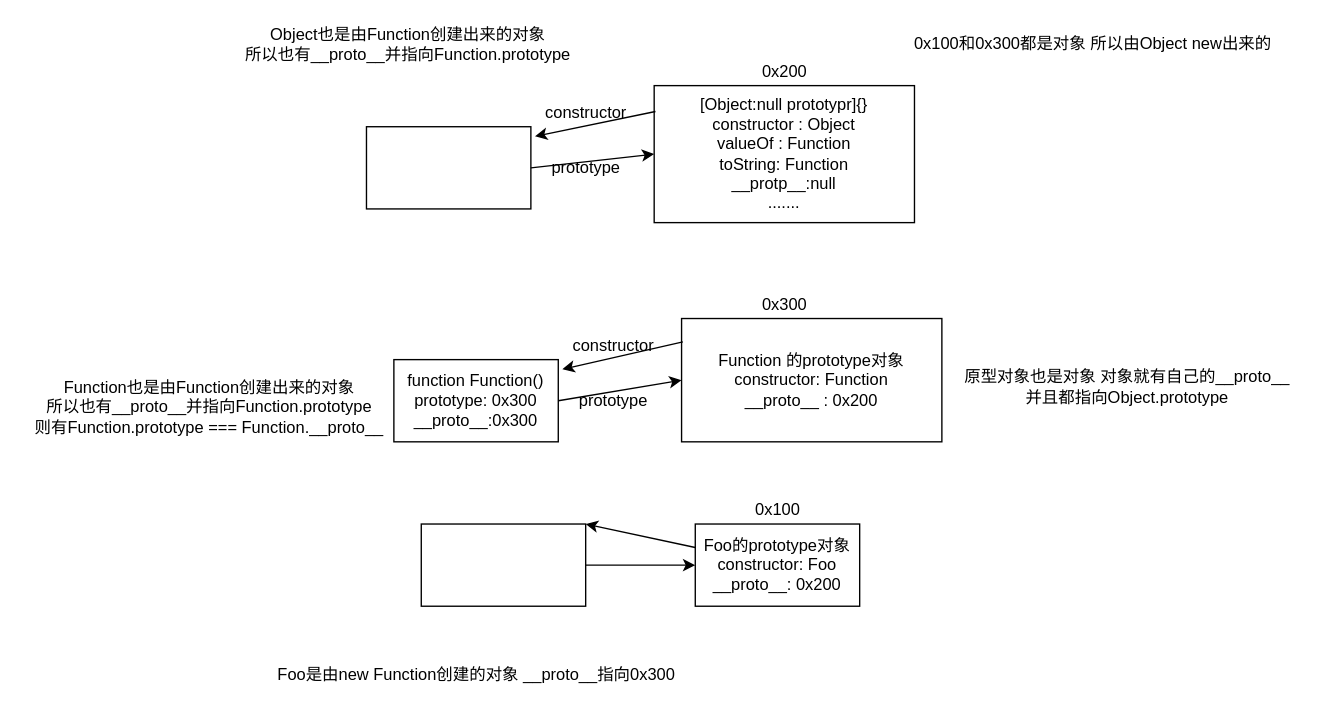
Some shapes in this 1321 by 711 pixel diagram are drawn without their labels. Each missing label, with the centre of its shape:
"function Foo() prototype：0x100 __proto__: 0x300" belongs at (x=503, y=564).
"function Object() prototype: 0x200 __proto__:0x300" belongs at (x=448, y=167).
